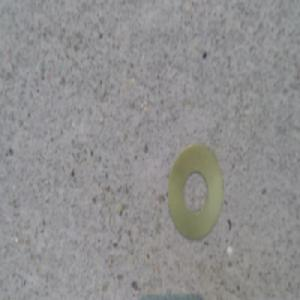Washer: (166, 138, 223, 239)
